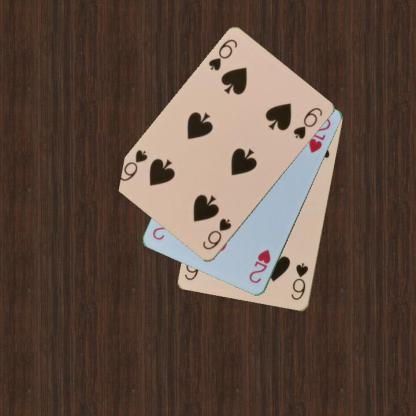2h: (246, 247, 272, 285)
6s: (206, 36, 238, 73), (200, 216, 233, 251), (288, 260, 310, 302)
